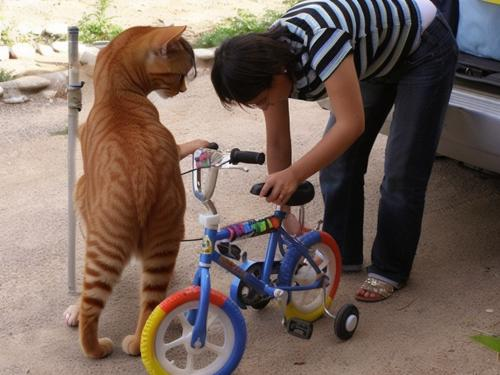bicycle: (139, 145, 362, 372)
cat: (68, 26, 185, 358)
person: (211, 1, 462, 308)
person/foot: (355, 277, 396, 302)
person/hand: (260, 170, 298, 206), (280, 214, 303, 235)
person/head: (210, 35, 293, 106)
